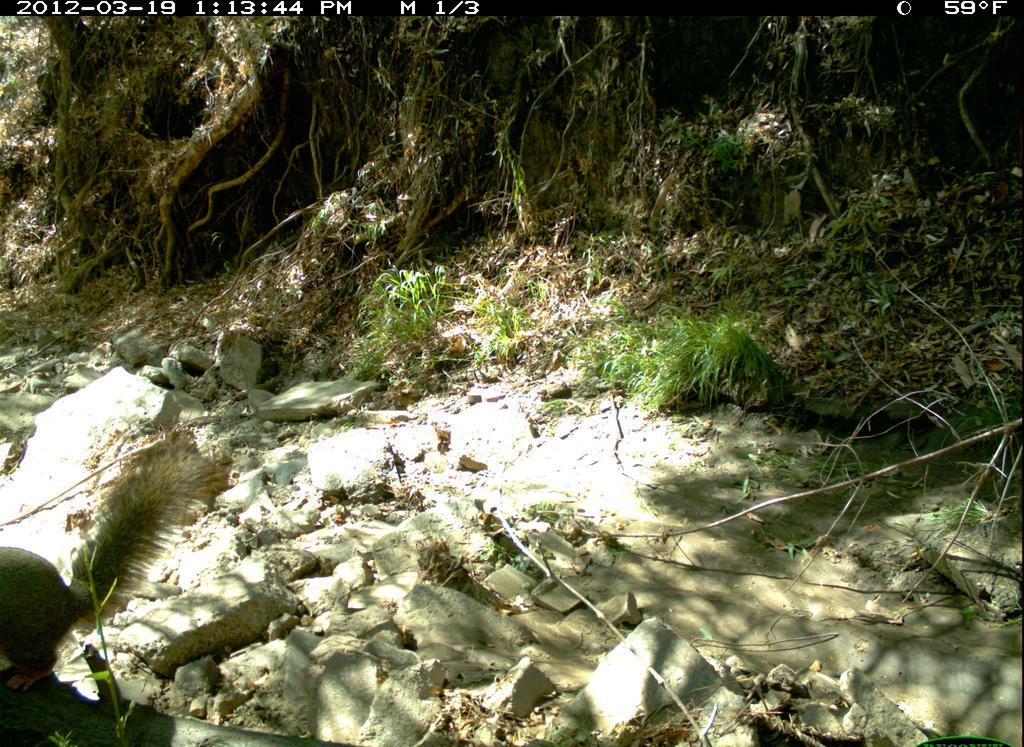squirrel: (3, 429, 236, 706)
